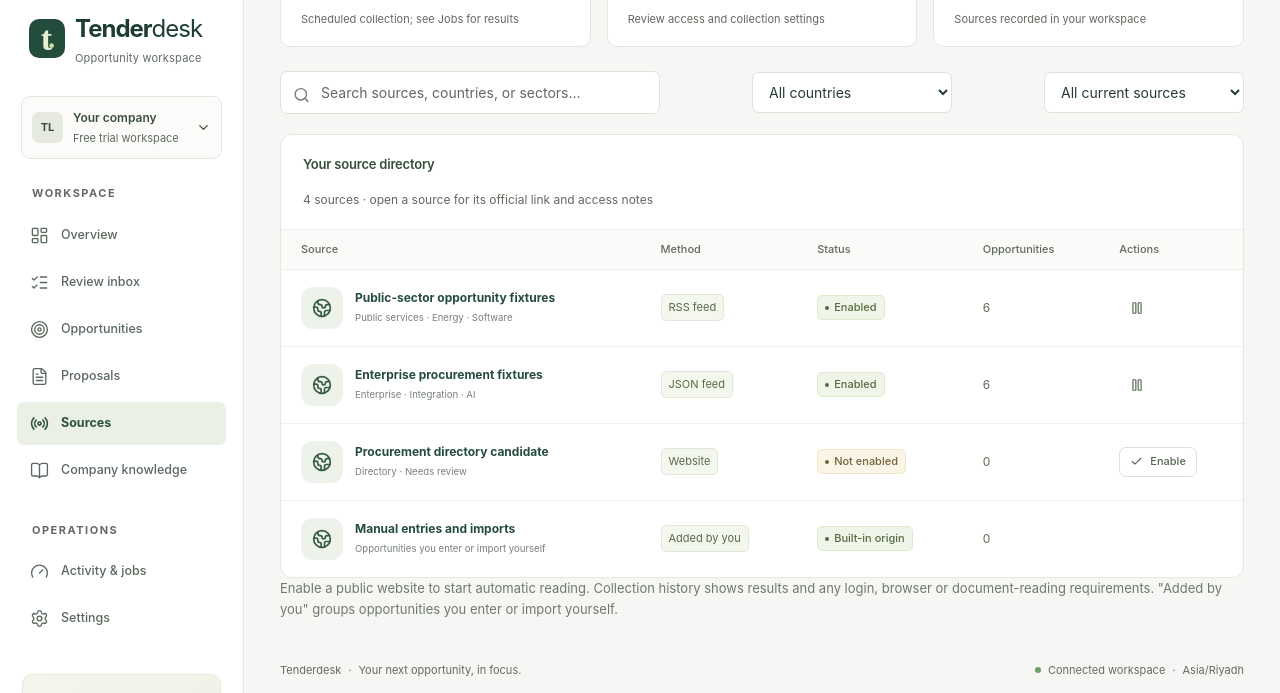
it: UI journeys with a test-only workspace › enables a source configuration without claiming a collection run or contacting the source
(page scrolled)
Step 1. Click the button "Enable" → (1158, 462), box top-left (1119, 447), bottom-right (1197, 477)
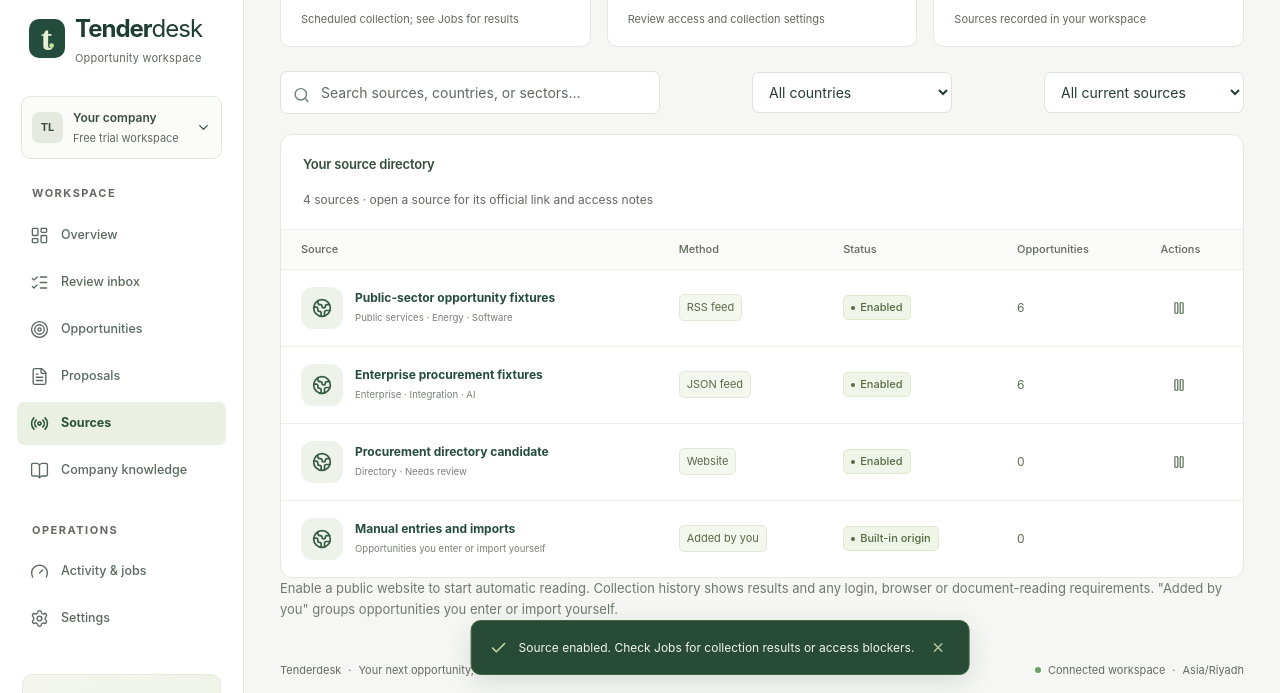
Expected: the text "Enabled" is shown, top-left (843, 450), bottom-right (910, 474)
Expected: the message reads "Source enabled. Check Jobs for collection results or access blockers.", top-left (519, 640), bottom-right (914, 654)
